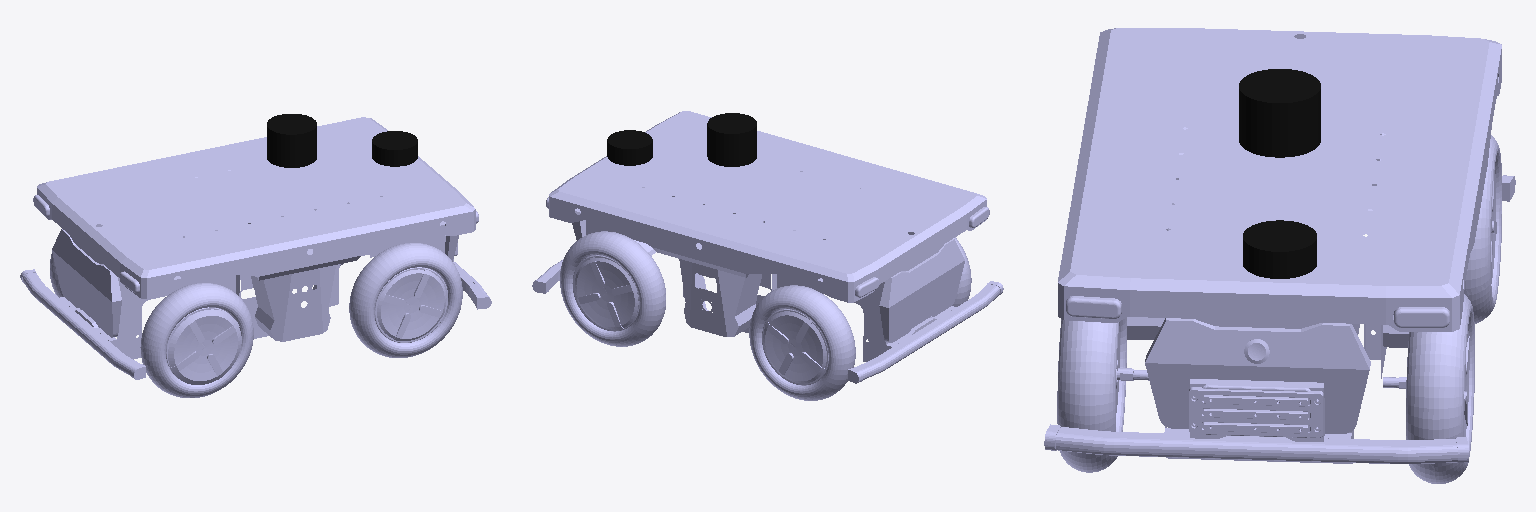
The robot description file, URDF, robot "chassis":
<?xml version="1.0"?>
<!-- This URDF was automatically created by SolidWorks to URDF Exporter! Originally created by Stephen Brawner (brawner@gmail.com) 
     Commit Version: 1.6.0-4-g7f85cfe  Build Version: 1.6.7995.38578
     For more information, please see http://wiki.ros.org/sw_urdf_exporter -->
<robot
  name="chassis">
  <link
    name="Frame">
    <inertial>
      <origin
        xyz="0.0928281919478462 -0.00673923092999855 0.151666421008473"
        rpy="0 0 0" />
      <mass
        value="1.5731528453802" />
      <inertia
        ixx="0.0218145784639336"
        ixy="-0.00154424352543078"
        ixz="8.40761431895854E-08"
        iyy="0.00042670429513181"
        iyz="2.24579560949427E-07"
        izz="0.0218008704749134" />
    </inertial>
    <visual>
      <origin
        xyz="0 0 0"
        rpy="0 0 0" />
      <geometry>
        <mesh
          filename="package://chassis_description/meshes/Frame.STL" />
      </geometry>
      <material
        name="">
        <color
          rgba="0.823529411764706 0.823529411764706 1 1" />
      </material>
    </visual>
    <collision>
      <origin
        xyz="0 0 0"
        rpy="0 0 0" />
      <geometry>
        <mesh
          filename="package://chassis_description/meshes/Frame.STL" />
      </geometry>
    </collision>
  </link>
  <link
    name="wheel_1">
    <inertial>
      <origin
        xyz="2.26501005035074E-06 -0.0334707379419106 -3.72874907977883E-07"
        rpy="0 0 0" />
      <mass
        value="2.55809164145743" />
      <inertia
        ixx="0.0142910768404817"
        ixy="6.68835490530129E-08"
        ixz="9.10300718206809E-09"
        iyy="0.0267766869584139"
        iyz="-8.33810412526065E-09"
        izz="0.0142909867417535" />
    </inertial>
    <visual>
      <origin
        xyz="0 0 0"
        rpy="0 0 0" />
      <geometry>
        <mesh
          filename="package://chassis_description/meshes/wheel_1.STL" />
      </geometry>
      <material
        name="">
        <color
          rgba="0.823529411764706 0.823529411764706 1 1" />
      </material>
    </visual>
    <collision>
      <!-- 轮子用圆柱碰撞体（半径0.133 宽0.12）：trimesh-地面接触在 ODE 下又慢又卡 -->
      <origin xyz="0 0 0" rpy="1.5707963 0 0" />
      <geometry><cylinder radius="0.133" length="0.12" /></geometry>
    </collision>
  </link>
  <joint name="wheel_1_joint" type="continuous">
    <origin xyz="-0.00154970976 -0.0283967243 0.0603998383" rpy="-0.00440320604907234 0.00971868346536325 -0.0750440468661808" />
    <parent link="steering_1" />
    <child link="wheel_1" />
    <axis xyz="0 1 0" />
    <limit effort="100" velocity="15" />
  </joint>
  <link
    name="wheel_2">
    <inertial>
      <origin
        xyz="9.28521727735498E-05 0.0334718985994525 -0.000144245708811025"
        rpy="0 0 0" />
      <mass
        value="2.55809223504083" />
      <inertia
        ixx="0.0142912069151952"
        ixy="4.24912130650615E-05"
        ixz="-1.72055124458042E-07"
        iyy="0.026776306808243"
        iyz="-5.46196789244644E-05"
        izz="0.0142912446422559" />
    </inertial>
    <visual>
      <origin
        xyz="0 0 0"
        rpy="0 0 0" />
      <geometry>
        <mesh
          filename="package://chassis_description/meshes/wheel_2.STL" />
      </geometry>
      <material
        name="">
        <color
          rgba="0.823529411764706 0.823529411764706 1 1" />
      </material>
    </visual>
    <collision>
      <!-- 轮子用圆柱碰撞体（半径0.133 宽0.12）：trimesh-地面接触在 ODE 下又慢又卡 -->
      <origin xyz="0 0 0" rpy="1.5707963 0 0" />
      <geometry><cylinder radius="0.133" length="0.12" /></geometry>
    </collision>
  </link>
  <joint name="wheel_2_joint" type="continuous">
    <origin xyz="0.00514556716 0.0279502959 0.0602240903" rpy="0.00440320604907234 0.00971868346536325 -0.0682343762240833" />
    <parent link="steering_2" />
    <child link="wheel_2" />
    <axis xyz="0 1 0" />
    <limit effort="100" velocity="15" />
  </joint>
  <link
    name="wheel_3">
    <inertial>
      <origin
        xyz="2.2649315989387E-06 -0.0334707379464665 -3.72906138745854E-07"
        rpy="0 0 0" />
      <mass
        value="2.55809164171419" />
      <inertia
        ixx="0.0142910768411321"
        ixy="6.6867572156814E-08"
        ixz="9.10203159797975E-09"
        iyy="0.026776686956972"
        iyz="-8.336287049684E-09"
        izz="0.0142909867402285" />
    </inertial>
    <visual>
      <origin
        xyz="0 0 0"
        rpy="0 0 0" />
      <geometry>
        <mesh
          filename="package://chassis_description/meshes/wheel_3.STL" />
      </geometry>
      <material
        name="">
        <color
          rgba="0.823529411764706 0.823529411764706 1 1" />
      </material>
    </visual>
    <collision>
      <!-- 轮子用圆柱碰撞体（半径0.133 宽0.12）：trimesh-地面接触在 ODE 下又慢又卡 -->
      <origin xyz="0 0 0" rpy="1.5707963 0 0" />
      <geometry><cylinder radius="0.133" length="0.12" /></geometry>
    </collision>
  </link>
  <joint name="wheel_3_joint" type="continuous">
    <origin xyz="-0.00135531087 -0.0284093576 0.0604005012" rpy="-0.00440320736914554 0.00974828930347111 -0.0683200977841862" />
    <parent link="steering_3" />
    <child link="wheel_3" />
    <axis xyz="0 1 0" />
    <limit effort="100" velocity="15" />
  </joint>
  <link
    name="wheel_4">
    <inertial>
      <origin
        xyz="1.99595972960598E-06 0.0333630669871767 1.32608472092066E-07"
        rpy="0 0 0" />
      <mass
        value="2.55809229698053" />
      <inertia
        ixx="0.0142910620534096"
        ixy="-2.91645980447187E-08"
        ixz="1.40144867758775E-08"
        iyy="0.0267766929241229"
        iyz="3.46518444283218E-09"
        izz="0.0142910069486517" />
    </inertial>
    <visual>
      <origin
        xyz="0 0 0"
        rpy="0 0 0" />
      <geometry>
        <mesh
          filename="package://chassis_description/meshes/wheel_4.STL" />
      </geometry>
      <material
        name="">
        <color
          rgba="0.823529411764706 0.823529411764706 1 1" />
      </material>
    </visual>
    <collision>
      <!-- 轮子用圆柱碰撞体（半径0.133 宽0.12）：trimesh-地面接触在 ODE 下又慢又卡 -->
      <origin xyz="0 0 0" rpy="1.5707963 0 0" />
      <geometry><cylinder radius="0.133" length="0.12" /></geometry>
    </collision>
  </link>
  <joint name="wheel_4_joint" type="continuous">
    <origin xyz="0.00366614467 0.0408821734 0.0604561298" rpy="0.00440320736914554 0.00974828930347111 -0.074958325306078" />
    <parent link="steering_4" />
    <child link="wheel_4" />
    <axis xyz="0 1 0" />
    <limit effort="100" velocity="15" />
  </joint>
  <link name="steering_1">
    <inertial>
      <origin xyz="-0.00405440867 -0.0617715727 0.0605472782" rpy="0 0 0" />
      <mass
        value="2.55809164145743" />
      <inertia
        ixx="0.0143612666"
        ixy="0.000933496702"
        ixz="-4.11446165e-06"
        iyy="0.0267062552"
        iyz="-5.48306043e-05"
        izz="0.0142912287" />
    </inertial>
    <visual>
      <origin xyz="0 0 0" rpy="-0.010014 -0.077734 -1.6417" />
      <geometry>
        <mesh
          filename="package://chassis_description/meshes/steering_1.STL" />
      </geometry>
      <material
        name="">
        <color
          rgba="0.823529411764706 0.823529411764706 1 1" />
      </material>
    </visual>
    <collision>
      <!-- 简化碰撞体：原 mesh 底部低于地面 4mm 会拖地，换成小方块 -->
      <origin xyz="0 0 0" rpy="-0.010014 -0.077734 -1.6417" />
      <geometry><box size="0.10 0.12 0.12" /></geometry>
    </collision>
  </link>
  <joint name="steering_1_joint" type="revolute">
    <!-- 坐标系已掰直：rpy=0，纯 Z 轴转向（阿克曼插件按此推算几何） -->
    <origin xyz="0.23696 -0.18808 0.072721" rpy="0 0 0" />
    <parent link="Frame" />
    <child link="steering_1" />
    <axis xyz="0 0 1" />
    <limit lower="-0.53" upper="0.53" effort="50" velocity="2" />
  </joint>
  <link name="steering_2">
    <inertial>
      <origin xyz="0.00751535776 0.0613388383 0.0602267908" rpy="0 0 0" />
      <mass
        value="2.55809223504083" />
      <inertia
        ixx="0.0143550053"
        ixy="0.000891222127"
        ixz="9.31465057e-09"
        iyy="0.0267127476"
        iyz="-5.57306199e-08"
        izz="0.0142910054" />
    </inertial>
    <visual>
      <origin xyz="0 0 0" rpy="-0.010014 0.077734 -1.6432" />
      <geometry>
        <mesh
          filename="package://chassis_description/meshes/steering_2.STL" />
      </geometry>
      <material
        name="">
        <color
          rgba="0.823529411764706 0.823529411764706 1 1" />
      </material>
    </visual>
    <collision>
      <!-- 简化碰撞体：原 mesh 底部低于地面 4mm 会拖地，换成小方块 -->
      <origin xyz="0 0 0" rpy="-0.010014 0.077734 -1.6432" />
      <geometry><box size="0.10 0.12 0.12" /></geometry>
    </collision>
  </link>
  <joint name="steering_2_joint" type="revolute">
    <!-- 坐标系已掰直：rpy=0，纯 Z 轴转向（阿克曼插件按此推算几何） -->
    <origin xyz="0.26138 0.15232 0.072721" rpy="0 0 0" />
    <parent link="Frame" />
    <child link="steering_2" />
    <axis xyz="0 0 1" />
    <limit lower="-0.53" upper="0.53" effort="50" velocity="2" />
  </joint>
  <link name="steering_3">
    <inertial>
      <origin xyz="-0.00363483011 -0.0617976889 0.0605472705" rpy="0 0 0" />
      <mass
        value="2.55809164171419" />
      <inertia
        ixx="0.0143492069"
        ixy="0.000849937726"
        ixz="-3.7437488e-06"
        iyy="0.0267183149"
        iyz="-5.48591652e-05"
        izz="0.0142912287" />
    </inertial>
    <visual>
      <origin xyz="0 0 0" rpy="-0.0095184 -0.0778 -1.6417" />
      <geometry>
        <mesh
          filename="package://chassis_description/meshes/steering_3.STL" />
      </geometry>
      <material
        name="">
        <color
          rgba="0.823529411764706 0.823529411764706 1 1" />
      </material>
    </visual>
    <collision>
      <!-- 简化碰撞体：原 mesh 底部低于地面 4mm 会拖地，换成小方块 -->
      <origin xyz="0 0 0" rpy="-0.0095184 -0.0778 -1.6417" />
      <geometry><box size="0.10 0.12 0.12" /></geometry>
    </collision>
  </link>
  <joint name="steering_3_joint" type="fixed">
    <!-- 后转向锁死：Ecu 接口只有前轮转角，后轮转向由底盘控制器内部处理 -->
    <origin xyz="-0.26168 -0.13947 0.072664" rpy="0 0 0" />
    <parent link="Frame" />
    <child link="steering_3" />
  </joint>
  <link name="steering_4">
    <inertial>
      <origin xyz="0.00616509514 0.0741505201 0.0606029371" rpy="0 0 0" />
      <mass
        value="2.55809229698053" />
      <inertia
        ixx="0.014361205"
        ixy="0.000933187528"
        ixz="4.13447365e-06"
        iyy="0.0267063081"
        iyz="5.48257879e-05"
        izz="0.0142912488" />
    </inertial>
    <visual>
      <origin xyz="0 0 0" rpy="-0.0095184 0.0778 -1.6432" />
      <geometry>
        <mesh
          filename="package://chassis_description/meshes/steering_4.STL" />
      </geometry>
      <material
        name="">
        <color
          rgba="0.823529411764706 0.823529411764706 1 1" />
      </material>
    </visual>
    <collision>
      <!-- 简化碰撞体：原 mesh 底部低于地面 4mm 会拖地，换成小方块 -->
      <origin xyz="0 0 0" rpy="-0.0095184 0.0778 -1.6432" />
      <geometry><box size="0.10 0.12 0.12" /></geometry>
    </collision>
  </link>
  <joint name="steering_4_joint" type="fixed">
    <!-- 后转向锁死：Ecu 接口只有前轮转角，后轮转向由底盘控制器内部处理 -->
    <origin xyz="-0.23909 0.17541 0.072664" rpy="0 0 0" />
    <parent link="Frame" />
    <child link="steering_4" />
  </joint>

  <!-- ================= Gazebo 扩展 ================= -->
  <!-- 速腾 16 线三维雷达 RS-LiDAR-16（简化几何体，车顶正中） -->
  <link name="rslidar_link">
    <inertial>
      <origin xyz="0 0 0" rpy="0 0 0"/>
      <mass value="0.9"/>
      <inertia ixx="0.001" ixy="0.0" ixz="0.0" iyy="0.001" iyz="0.0" izz="0.001"/>
    </inertial>
    <visual>
      <origin xyz="0 0 0" rpy="0 0 0"/>
      <geometry><cylinder radius="0.055" length="0.08"/></geometry>
      <material name="dark"><color rgba="0.1 0.1 0.1 1"/></material>
    </visual>
    <collision>
      <origin xyz="0 0 0" rpy="0 0 0"/>
      <geometry><cylinder radius="0.055" length="0.08"/></geometry>
    </collision>
  </link>
  <joint name="rslidar_joint" type="fixed">
    <origin xyz="0.09 0 0.45" rpy="0 0 0"/>
    <parent link="Frame"/>
    <child link="rslidar_link"/>
  </joint>

  <!-- 二维雷达 hi_driver（简化几何体，车顶前部；真实安装位到货后再校准） -->
  <link name="laser_link">
    <inertial>
      <origin xyz="0 0 0" rpy="0 0 0"/>
      <mass value="0.2"/>
      <inertia ixx="0.0001" ixy="0.0" ixz="0.0" iyy="0.0001" iyz="0.0" izz="0.0001"/>
    </inertial>
    <visual>
      <origin xyz="0 0 0" rpy="0 0 0"/>
      <geometry><cylinder radius="0.05" length="0.04"/></geometry>
      <material name="dark"><color rgba="0.1 0.1 0.1 1"/></material>
    </visual>
    <collision>
      <origin xyz="0 0 0" rpy="0 0 0"/>
      <geometry><cylinder radius="0.05" length="0.04"/></geometry>
    </collision>
  </link>
  <joint name="laser_joint" type="fixed">
    <origin xyz="0.35 0 0.37" rpy="0 0 0"/>
    <parent link="Frame"/>
    <child link="laser_link"/>
  </joint>

  <!-- 外观颜色 -->
  <gazebo reference="Frame"><material>Gazebo/Grey</material></gazebo>
  <gazebo reference="steering_1"><material>Gazebo/DarkGrey</material></gazebo>
  <gazebo reference="steering_2"><material>Gazebo/DarkGrey</material></gazebo>
  <gazebo reference="steering_3"><material>Gazebo/DarkGrey</material></gazebo>
  <gazebo reference="steering_4"><material>Gazebo/DarkGrey</material></gazebo>
  <gazebo reference="laser_link"><material>Gazebo/Black</material></gazebo>
  <gazebo reference="rslidar_link"><material>Gazebo/Black</material></gazebo>

  <!-- 轮子摩擦参数（4 轮一致） -->
  <gazebo reference="wheel_1"><material>Gazebo/Black</material><mu1>1.0</mu1><mu2>1.0</mu2></gazebo>
  <gazebo reference="wheel_2"><material>Gazebo/Black</material><mu1>1.0</mu1><mu2>1.0</mu2></gazebo>
  <gazebo reference="wheel_3"><material>Gazebo/Black</material><mu1>1.0</mu1><mu2>1.0</mu2></gazebo>
  <gazebo reference="wheel_4"><material>Gazebo/Black</material><mu1>1.0</mu1><mu2>1.0</mu2></gazebo>

  <!-- 阿克曼驱动：前转向(steering_1=右前/steering_2=左前) + 4 轮驱动，订阅 /cmd_vel(Twist)
       阿克曼底盘不能原地旋转，纯角速度指令不会动车，属预期行为 -->
  <gazebo>
    <plugin name="chassis_ackermann_drive" filename="libgazebo_ros_ackermann_drive.so">
      <ros></ros>
      <update_rate>30</update_rate>
      <front_left_joint>wheel_2_joint</front_left_joint>
      <front_right_joint>wheel_1_joint</front_right_joint>
      <rear_left_joint>wheel_4_joint</rear_left_joint>
      <rear_right_joint>wheel_3_joint</rear_right_joint>
      <left_steering_joint>steering_2_joint</left_steering_joint>
      <right_steering_joint>steering_1_joint</right_steering_joint>
      <max_steering_angle>0.53</max_steering_angle>
      <max_speed>2.0</max_speed>
      <left_steering_pid_gain>100 0 3</left_steering_pid_gain>
      <right_steering_pid_gain>100 0 3</right_steering_pid_gain>
      <linear_velocity_pid_gain>20 0 0</linear_velocity_pid_gain>
      <odometry_topic>odom</odometry_topic>
      <odometry_frame>odom</odometry_frame>
      <robot_base_frame>Frame</robot_base_frame>
      <publish_odom>true</publish_odom>
      <publish_odom_tf>true</publish_odom_tf>
    </plugin>
  </gazebo>

  <!-- 发布真实关节角度到 /joint_states（RViz 可见前轮偏转） -->
  <gazebo>
    <plugin name="chassis_joint_state" filename="libgazebo_ros_joint_state_publisher.so">
      <ros></ros>
      <joint_name>steering_1_joint</joint_name>
      <joint_name>steering_2_joint</joint_name>
      <joint_name>wheel_1_joint</joint_name>
      <joint_name>wheel_2_joint</joint_name>
      <joint_name>wheel_3_joint</joint_name>
      <joint_name>wheel_4_joint</joint_name>
      <update_rate>30</update_rate>
    </plugin>
  </gazebo>

  <!-- 速腾 16 线（合同规格：垂直 70° 即 -55°~+15°，盲区 0.2m，量程 100m，水平 0.4°），发 /rslidar_points -->
  <gazebo reference="rslidar_link">
    <sensor name="rslidar" type="ray">
      <always_on>true</always_on>
      <visualize>false</visualize>
      <update_rate>10</update_rate>
      <pose>0 0 0 0 0 0</pose>
      <ray>
        <scan>
          <horizontal>
            <samples>900</samples>
            <resolution>1.0</resolution>
            <min_angle>-3.14159265</min_angle>
            <max_angle>3.14159265</max_angle>
          </horizontal>
          <vertical>
            <samples>16</samples>
            <resolution>1.0</resolution>
            <min_angle>-0.95993109</min_angle>
            <max_angle>0.26179939</max_angle>
          </vertical>
        </scan>
        <range>
          <min>0.2</min>
          <max>100.0</max>
          <resolution>0.01</resolution>
        </range>
      </ray>
      <plugin name="rslidar_controller" filename="libgazebo_ros_ray_sensor.so">
        <ros>
          <remapping>~/out:=rslidar_points</remapping>
        </ros>
        <output_type>sensor_msgs/PointCloud2</output_type>
        <frame_name>rslidar_link</frame_name>
      </plugin>
    </sensor>
  </gazebo>

  <!-- 二维雷达：360°（0.5° 分辨率），发 /scan，Nav2 建图定位用 -->
  <gazebo reference="laser_link">
    <sensor name="laser" type="ray">
      <always_on>true</always_on>
      <visualize>true</visualize>
      <update_rate>10</update_rate>
      <pose>0 0 0 0 0 0</pose>
      <ray>
        <scan>
          <horizontal>
            <samples>720</samples>
            <resolution>1.0</resolution>
            <min_angle>-3.14159265</min_angle>
            <max_angle>3.14159265</max_angle>
          </horizontal>
        </scan>
        <range>
          <min>0.15</min>
          <max>12.0</max>
          <resolution>0.01</resolution>
        </range>
      </ray>
      <plugin name="laser_controller" filename="libgazebo_ros_ray_sensor.so">
        <ros>
          <remapping>~/out:=scan</remapping>
        </ros>
        <output_type>sensor_msgs/LaserScan</output_type>
        <frame_name>laser_link</frame_name>
      </plugin>
    </sensor>
  </gazebo>
</robot>

--- What the picture shows (computed from the rendered views, not written in the file) ---
3 views of the same robot in one strip: view 1: azimuth 30°, elevation 25°; view 2: azimuth 150°, elevation 25°; view 3: azimuth 270°, elevation 25° (orthographic).
Model chassis with 11 links and 10 joints (2 revolute, 4 continuous, 4 fixed), rooted at Frame, posed all joints at 0.
Visible links, largest first — view 1: Frame, wheel_3, wheel_1, rslidar_link, steering_1, laser_link; view 2: Frame, steering_2, steering_4, rslidar_link, wheel_4, laser_link, wheel_2; view 3: Frame, wheel_2, rslidar_link, steering_1, laser_link, wheel_4, wheel_1.
Boxes of the visible links, bbox=[...] form: Frame: bbox=[20, 117, 491, 384]; wheel_3: bbox=[141, 284, 253, 397]; wheel_1: bbox=[350, 247, 434, 357]; rslidar_link: bbox=[267, 114, 316, 167]; steering_1: bbox=[349, 243, 462, 345]; laser_link: bbox=[372, 131, 417, 166]; Frame: bbox=[532, 111, 1003, 383]; steering_2: bbox=[563, 232, 665, 346]; steering_4: bbox=[759, 286, 855, 400]; rslidar_link: bbox=[707, 113, 756, 166]; wheel_4: bbox=[749, 285, 828, 398]; laser_link: bbox=[607, 130, 652, 165]; wheel_2: bbox=[560, 231, 643, 345]; Frame: bbox=[1044, 28, 1515, 463]; wheel_2: bbox=[1383, 306, 1474, 483]; rslidar_link: bbox=[1239, 69, 1320, 157]; steering_1: bbox=[1057, 313, 1148, 472]; laser_link: bbox=[1243, 220, 1316, 278]; wheel_4: bbox=[1464, 139, 1499, 323]; wheel_1: bbox=[1066, 300, 1118, 472].
Bounding box of the posed robot: 0.9187 × 0.6291 × 0.49 m (x, y, z).
Meshes: 9 distinct files referenced, 9 mesh visuals loaded (9 binary STL).
